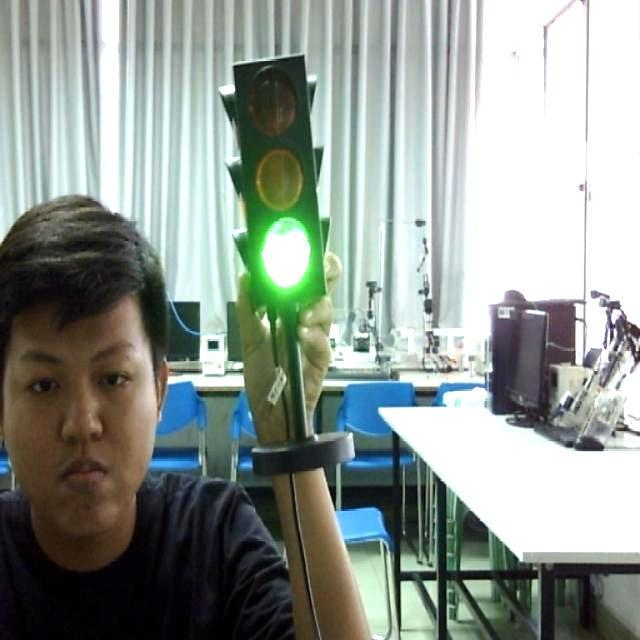Green: (222, 48, 341, 310)
